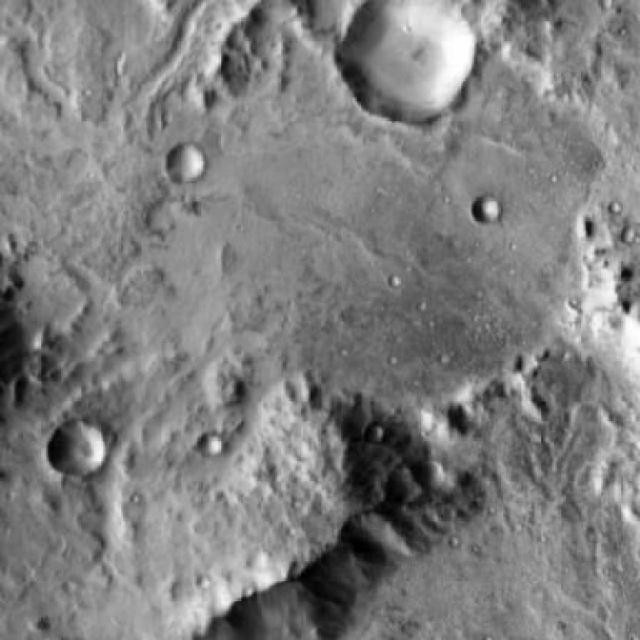crater: (341, 0, 476, 115), (48, 416, 104, 473), (165, 146, 202, 183), (387, 468, 421, 502), (423, 462, 454, 492), (475, 201, 500, 224), (198, 433, 220, 455), (364, 424, 384, 444)
